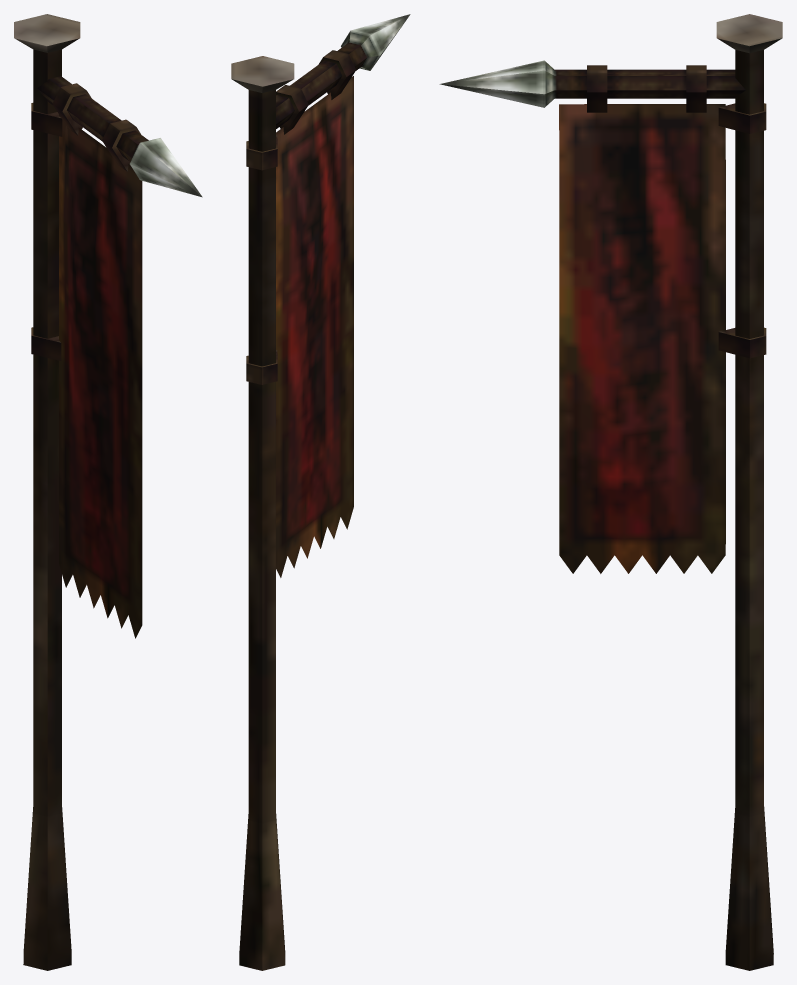
Rendered from general_obj_flag_01.glb.
3 renders of one model, left to right at view 1: azimuth 30°, elevation 25°; view 2: azimuth 150°, elevation 25°; view 3: azimuth 270°, elevation 25°, orthographic. The views are drawn at different scales.
Visible parts, largest first — view 1: Object03; view 2: Object03; view 3: Object03.
Part boxes in pixels (bbox=[...]): Object03: bbox=[14, 14, 202, 970]; Object03: bbox=[231, 14, 410, 970]; Object03: bbox=[439, 14, 782, 970].
Size of the model in its own units: 0.27 by 3.63 by 1.22.
1 material, 1 textured.
